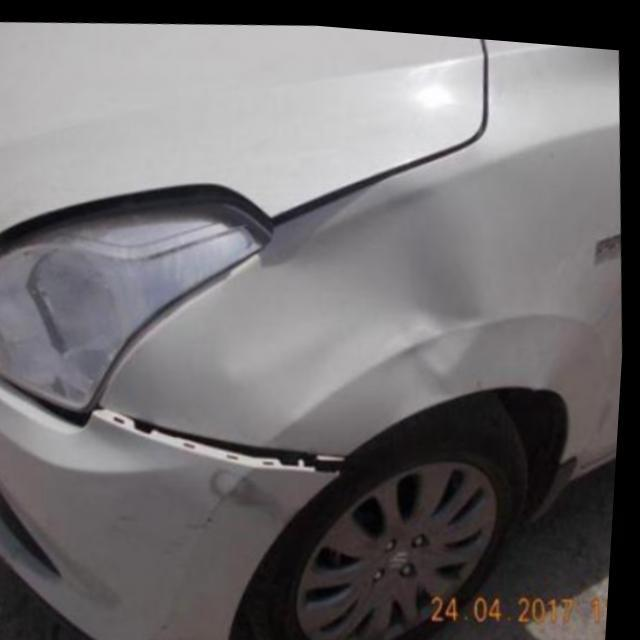dent: (346, 170, 493, 383)
dislocated part: (93, 397, 351, 471)
scratch: (210, 460, 304, 525)
